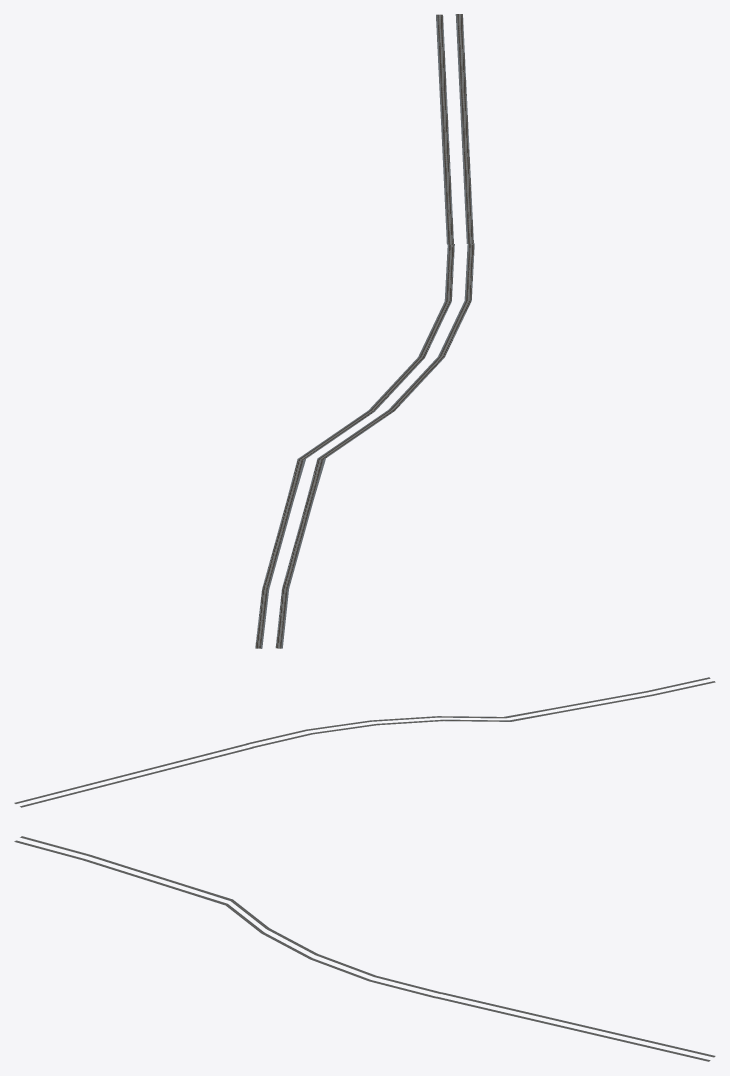
The model's file is tielu.gltf.
The picture shows the model from 3 angles, top to bottom: view 1: azimuth 30°, elevation 25°; view 2: azimuth 150°, elevation 25°; view 3: azimuth 270°, elevation 25°; orthographic projection. The views are drawn at different scales.
Parts seen in each view (by area): view 1: Plane053, Plane052; view 2: Plane052, Plane053; view 3: Plane052, Plane053.
Boxes of the visible parts, x1,y1,x2,y2 form: Plane053: [275, 14, 474, 648]; Plane052: [255, 14, 454, 648]; Plane052: [20, 681, 715, 807]; Plane053: [14, 677, 710, 803]; Plane052: [20, 836, 715, 1057]; Plane053: [14, 840, 710, 1061].
Size of the model in its own units: 2566 by 1.66e-06 by 3371.
2 materials, 2 textured.
